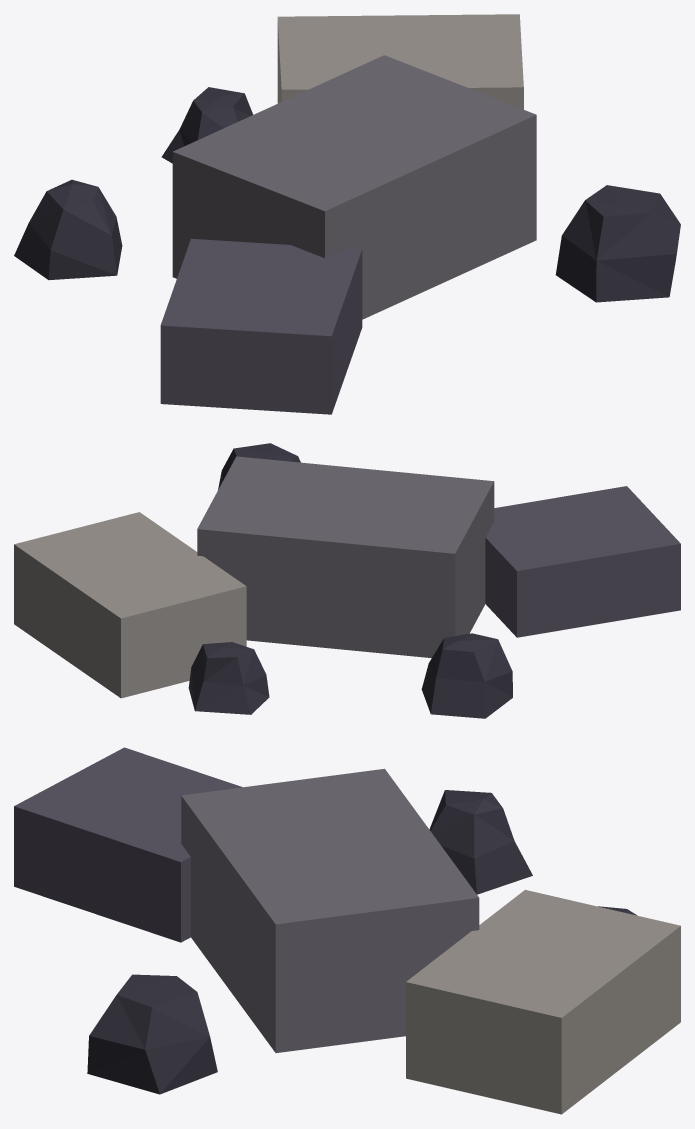
The model's file is rubble_b.fbx.
3 views of the same model, one above another, from view 1: azimuth 30°, elevation 25°; view 2: azimuth 150°, elevation 25°; view 3: azimuth 270°, elevation 25° (orthographic). The views are drawn at different scales.
Parts seen in each view (by area): view 1: rubble_b; view 2: rubble_b; view 3: rubble_b.
Boxes of the visible parts, x1,y1,x2,y2 form: rubble_b: (14,14,680,414); rubble_b: (14,443,680,718); rubble_b: (14,747,680,1114).
Bounding box in the file's own units: 1.91 × 0.4 × 1.88.
